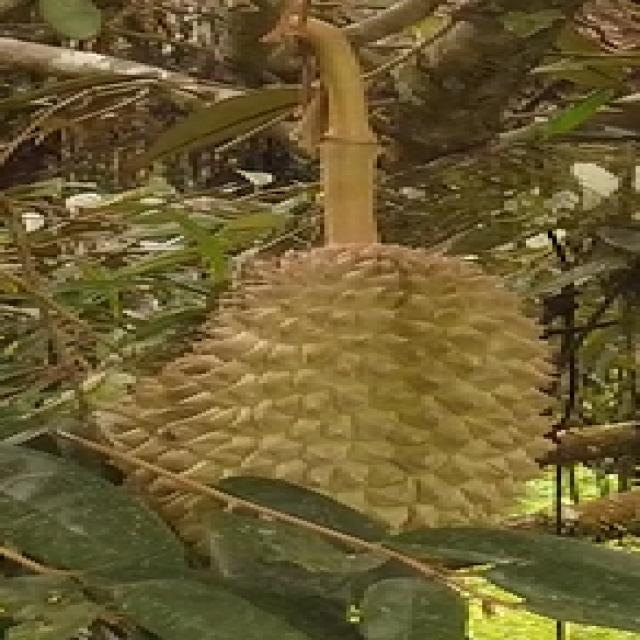mature: (100, 237, 561, 568)
